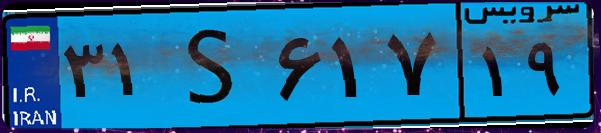1: (330, 28, 385, 110), (475, 38, 525, 113), (110, 28, 158, 98)
3: (57, 26, 110, 100)
6: (270, 28, 330, 110)
7: (385, 28, 445, 110)
9: (525, 38, 570, 115)
S: (158, 12, 270, 120)
